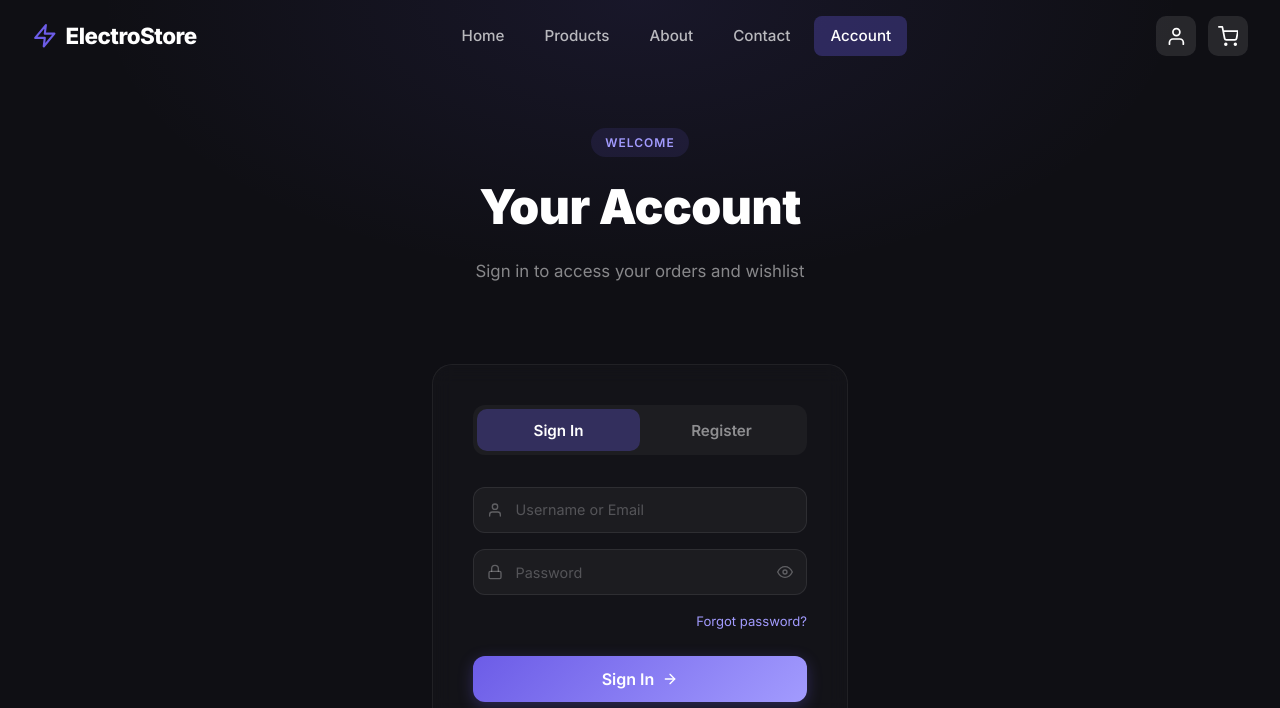
Test case: Account Page — Login & Register › should show error for invalid login
Type "nonexistentuser@test.com" into the field named "username" at (640, 510), box [473,487,807,533]
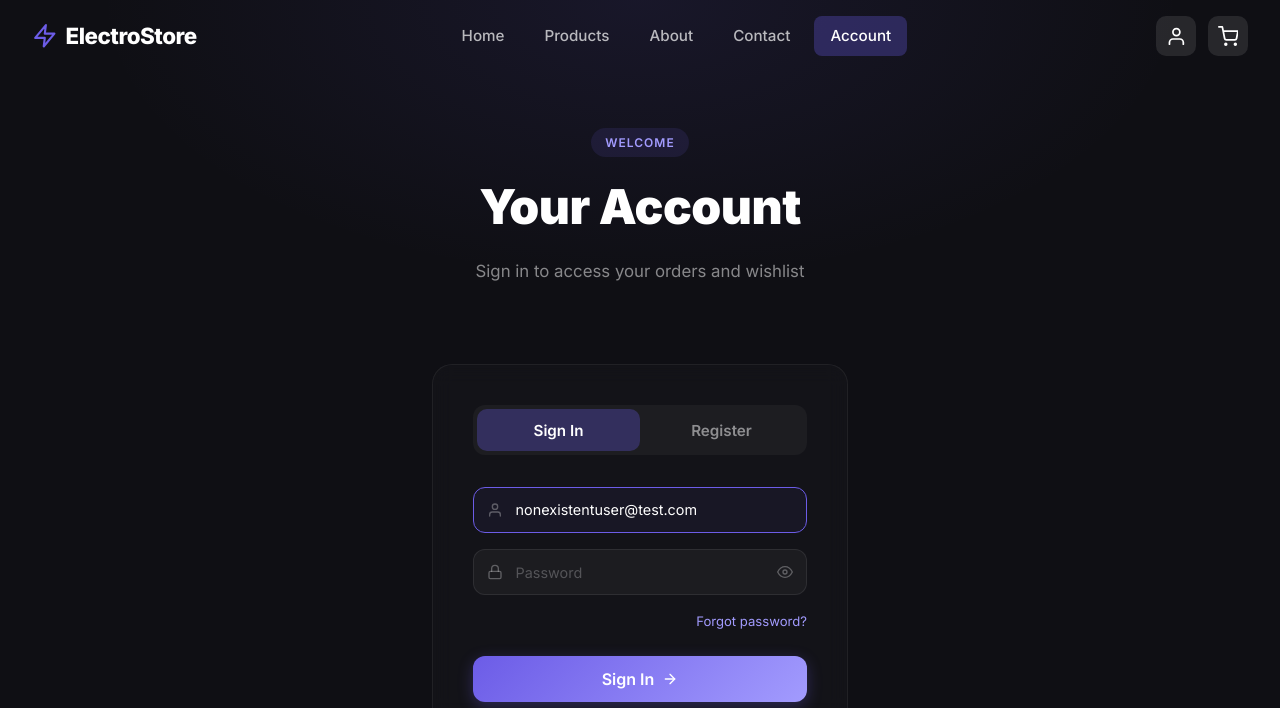
Type "wrongpassword" into the password field named "password" at (640, 572), box [473,549,807,595]
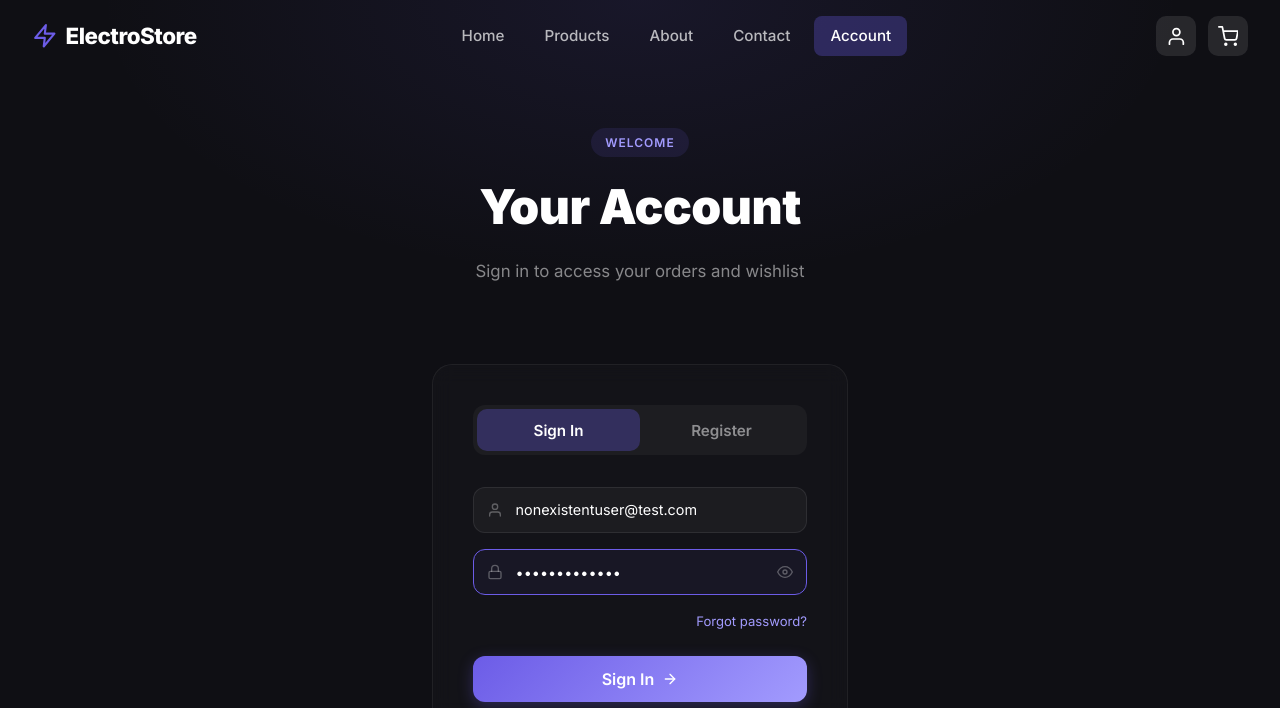
Click the button with class "auth-form__submit" at (640, 679), box [473,656,807,702]
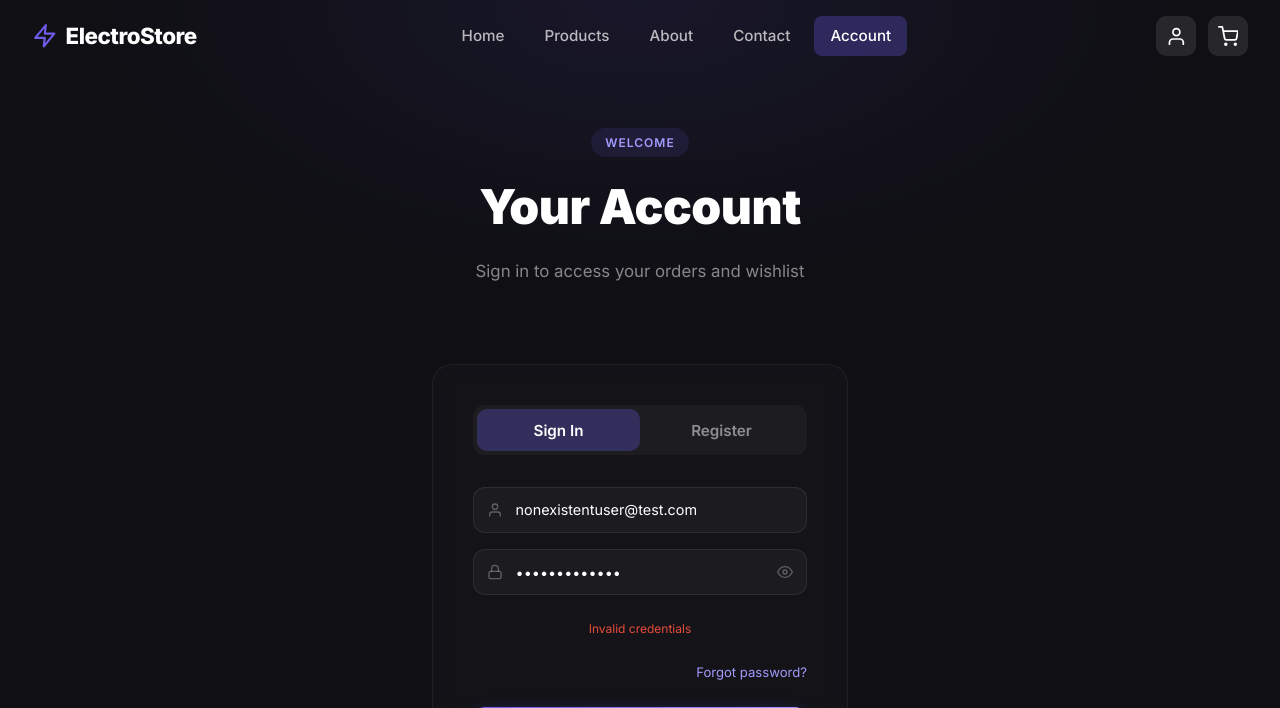
Expected: the text "Invalid credentials" is shown, [589,621,691,636]
